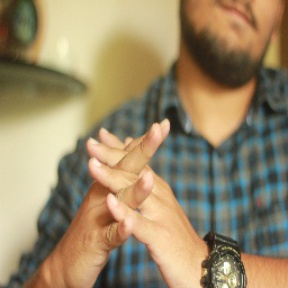W: (75, 107, 184, 276)
